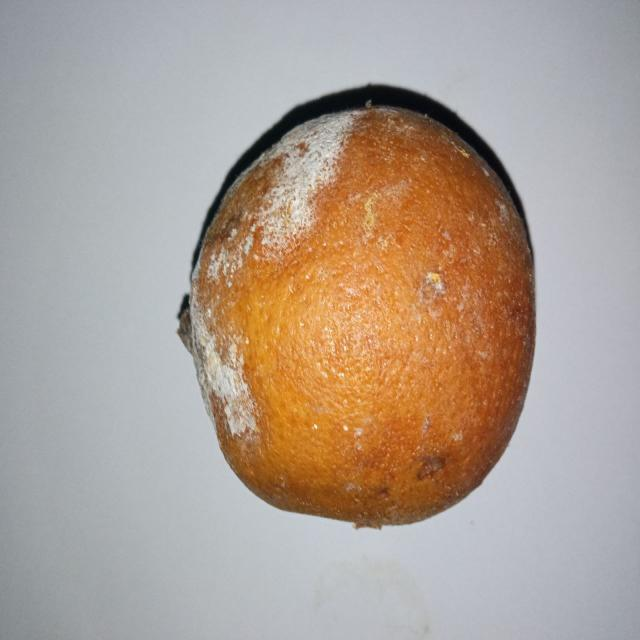rotten_orange: (180, 101, 536, 528)
